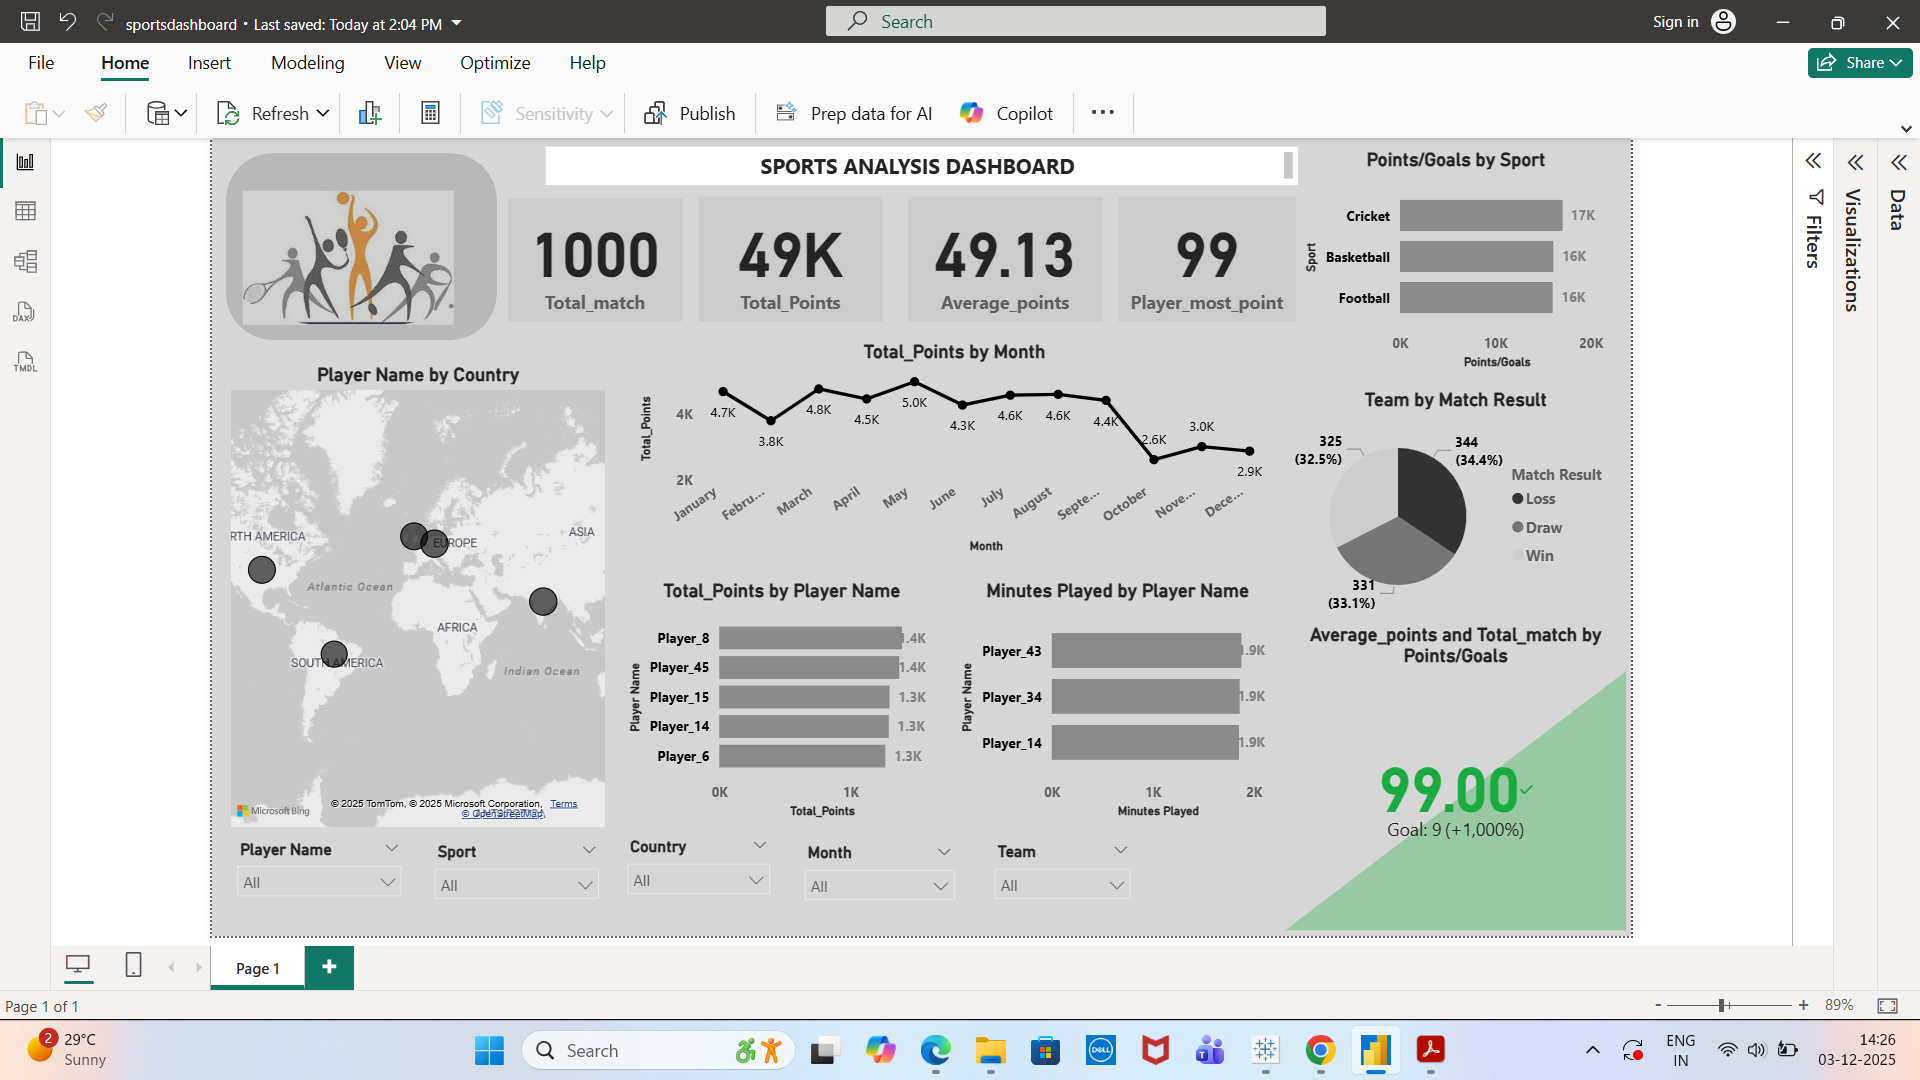

Layout of this report page (visuals, bound fields, positions):
{"tool":"powerbi","page":{"name":"Page 1","canvas":[1280,720],"ordinal":0},"visuals":[{"type":"card","fields":{"Values":["Sports_Analytics_Data.Total_match"]},"box":[266.6,53.8,156.5,111.3],"z":0},{"type":"card","fields":{"Values":["Sports_Analytics_Data.Total_Points"]},"box":[439,52.6,166.3,112.5],"z":1000},{"type":"card","fields":{"Values":["Sports_Analytics_Data.Average_points"]},"box":[627.3,52.6,174.9,112.5],"z":2000},{"type":"card","fields":{"Values":["Sports_Analytics_Data.Player_most_point"]},"box":[816.9,52.6,160.2,112.5],"z":3000},{"type":"image","box":[12.2,42.8,221.3,130.8],"z":4000},{"type":"shape","box":[12.2,13.5,244.6,168.8],"z":5000},{"type":"clusteredBarChart","fields":{"Category":["Sports_Analytics_Data.Player Name"],"Y":["Sports_Analytics_Data.Total_Points"]},"box":[370.5,397.4,286.1,220.1],"z":6000},{"type":"clusteredBarChart","fields":{"Category":["Sports_Analytics_Data.Player Name"],"Y":["Sum(Sports_Analytics_Data.Minutes Played)"]},"box":[670.1,397.4,292.3,220.1],"z":7000},{"type":"clusteredBarChart","fields":{"Category":["Sports_Analytics_Data.Sport"],"Y":["Sum(Sports_Analytics_Data.Points/Goals)"]},"box":[980.7,8.6,282.5,204.2],"z":8000},{"type":"pieChart","fields":{"Y":["CountNonNull(Sports_Analytics_Data.Team)"],"Category":["Sports_Analytics_Data.Match Result"]},"box":[962.4,225,317.9,212.8],"z":9000},{"type":"lineChart","fields":{"Category":["Sports_Analytics_Data.Match Date.Variation.Date Hierarchy.Month"],"Y":["Sports_Analytics_Data.Total_Points"]},"box":[381.5,182.2,577.2,196.9],"z":10000},{"type":"slicer","fields":{"Values":["Sports_Analytics_Data.Player Name"]},"box":[12.2,627.3,168.8,84.4],"z":11000},{"type":"slicer","fields":{"Values":["Sports_Analytics_Data.Team"]},"box":[695.8,629.8,143.1,80.7],"z":12000},{"type":"slicer","fields":{"Values":["Sports_Analytics_Data.Sport"]},"box":[190.8,629.8,168.8,84.4],"z":13000},{"type":"slicer","fields":{"Values":["Sports_Analytics_Data.Country"]},"box":[364.4,626.1,149.2,84.4],"z":14000},{"type":"slicer","fields":{"Values":["Sports_Analytics_Data.Match Date.Variation.Date Hierarchy.Month"]},"box":[524.6,631,155.3,84.4],"z":15000},{"type":"map","fields":{"Category":["Sports_Analytics_Data.Country"],"Size":["CountNonNull(Sports_Analytics_Data.Player Name)"]},"box":[12.2,203,347.3,423.1],"z":16000},{"type":"kpi","fields":{"Indicator":["Sports_Analytics_Data.Average_points"],"Goal":["Sports_Analytics_Data.Total_match"],"TrendLine":["Sports_Analytics_Data.Points/Goals"]},"box":[962.4,437.8,317.9,282.5],"z":17000},{"type":"textbox","box":[300.8,7.3,678.7,34.2],"z":18000}]}

Visuals, with their boxes on the page's 1280x720 design canvas (x1, y1, x2, y2). These are canvas units, not pixel positions in the 1920x1080 screenshot, which may show the page scaled, cropped or inside an application window:
card - Sports_Analytics_Data.Total_match: l=267, t=54, r=423, b=165
card - Sports_Analytics_Data.Total_Points: l=439, t=53, r=605, b=165
card - Sports_Analytics_Data.Average_points: l=627, t=53, r=802, b=165
card - Sports_Analytics_Data.Player_most_point: l=817, t=53, r=977, b=165
image: l=12, t=43, r=234, b=174
shape: l=12, t=14, r=257, b=182
clusteredBarChart - Sports_Analytics_Data.Player Name x Sports_Analytics_Data.Total_Points: l=370, t=397, r=657, b=618
clusteredBarChart - Sports_Analytics_Data.Player Name x Sum(Sports_Analytics_Data.Minutes Played): l=670, t=397, r=962, b=618
clusteredBarChart - Sports_Analytics_Data.Sport x Sum(Sports_Analytics_Data.Points/Goals): l=981, t=9, r=1263, b=213
pieChart - CountNonNull(Sports_Analytics_Data.Team) x Sports_Analytics_Data.Match Result: l=962, t=225, r=1280, b=438
lineChart - Sports_Analytics_Data.Match Date.Variation.Date Hierarchy.Month x Sports_Analytics_Data.Total_Points: l=382, t=182, r=959, b=379
slicer - Sports_Analytics_Data.Player Name: l=12, t=627, r=181, b=712
slicer - Sports_Analytics_Data.Team: l=696, t=630, r=839, b=710
slicer - Sports_Analytics_Data.Sport: l=191, t=630, r=360, b=714
slicer - Sports_Analytics_Data.Country: l=364, t=626, r=514, b=710
slicer - Sports_Analytics_Data.Match Date.Variation.Date Hierarchy.Month: l=525, t=631, r=680, b=715
map - Sports_Analytics_Data.Country x CountNonNull(Sports_Analytics_Data.Player Name): l=12, t=203, r=360, b=626
kpi - Sports_Analytics_Data.Average_points x Sports_Analytics_Data.Total_match: l=962, t=438, r=1280, b=720
textbox: l=301, t=7, r=980, b=42
